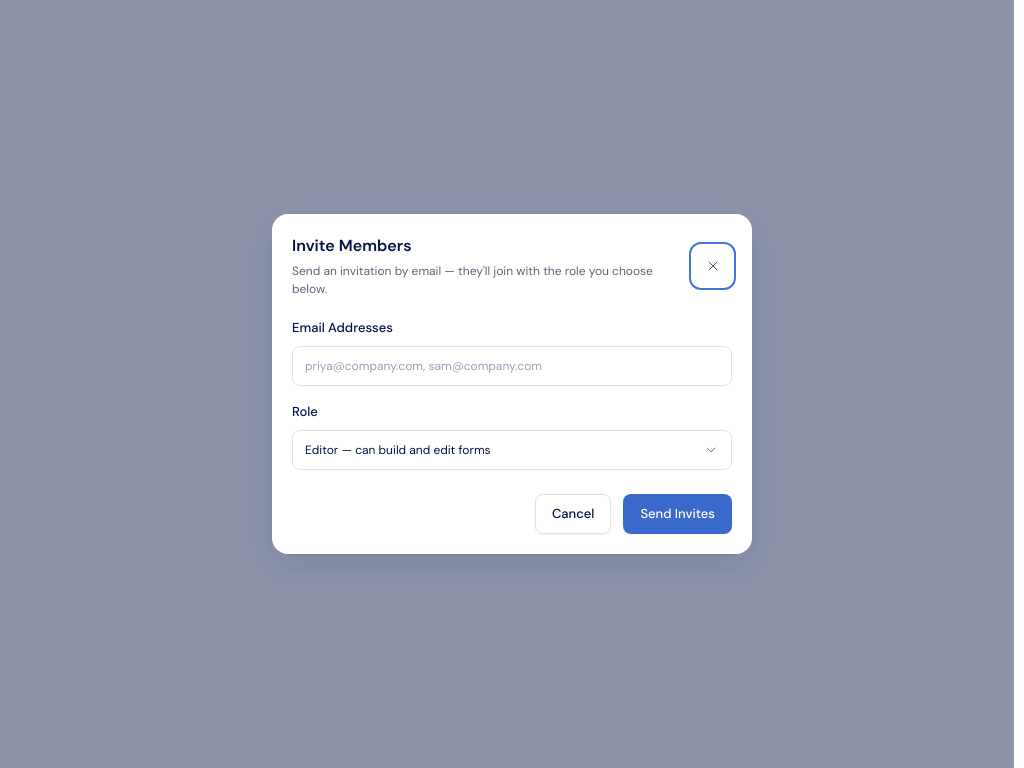
InviteMembersModal › refuses an address that is already a member on the spot: inline under the field, nothing sent (QA A9-003)
In the field labelled "Email Addresses": (512, 366) 292,346 -> 732,386, type "sam@x.com"
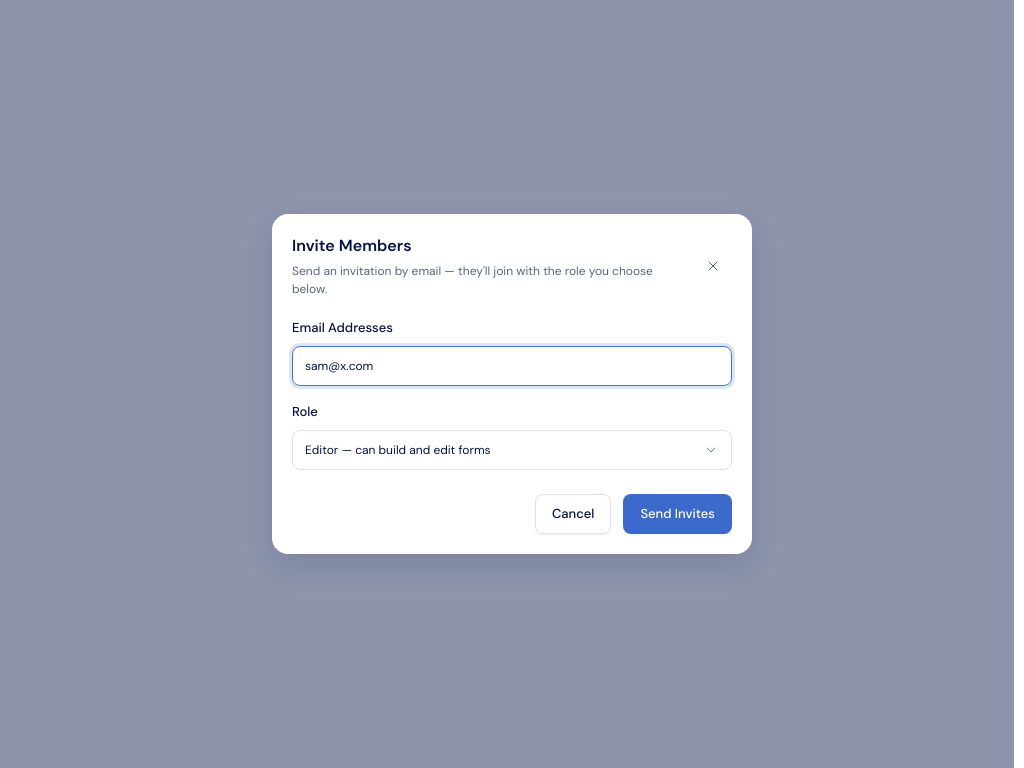
Click the button "Send Invites": (678, 514) 623,494 -> 732,534
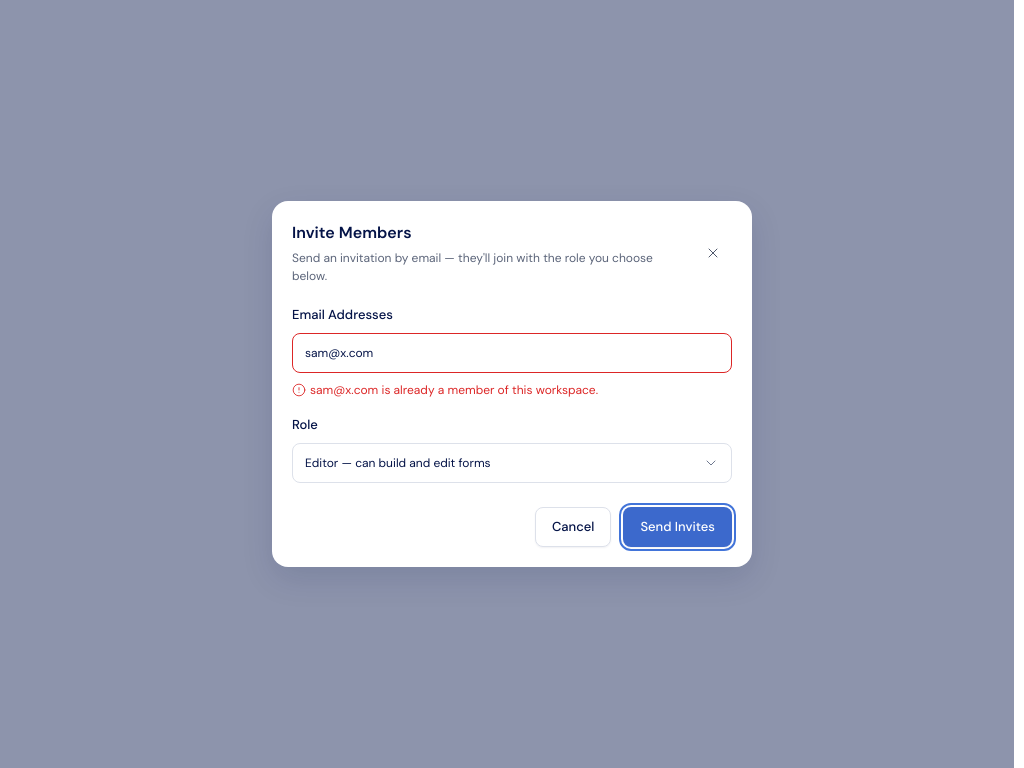
Now the text "sam@x.com is already a member of this workspace." is shown, box 292,382 -> 598,398
